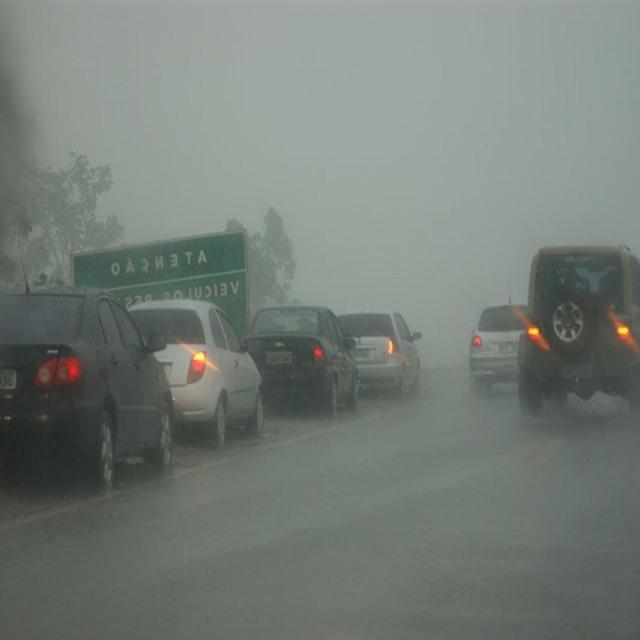Car: (0, 284, 173, 486), (123, 297, 270, 449), (522, 243, 640, 422), (245, 303, 361, 417), (337, 307, 424, 398), (469, 296, 531, 398)
